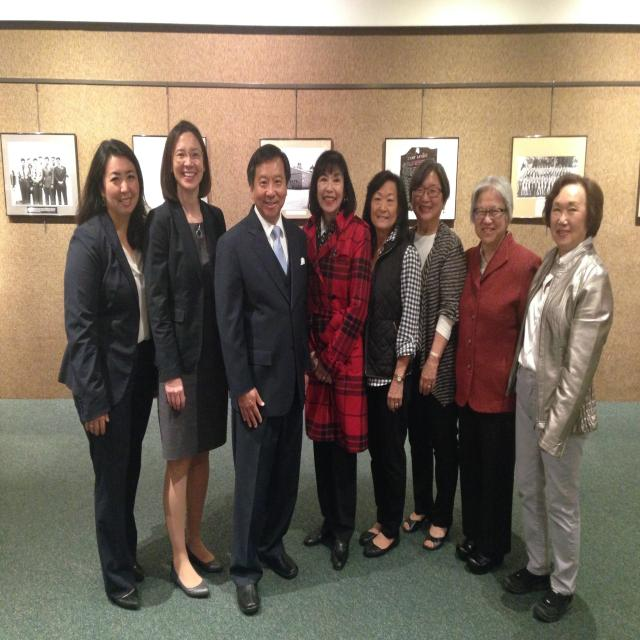body: (502, 168, 618, 626), (55, 135, 158, 612), (139, 117, 238, 600), (212, 141, 312, 619), (455, 174, 544, 576), (386, 158, 469, 553), (299, 147, 374, 572), (356, 166, 424, 560), (5, 138, 71, 210), (512, 148, 578, 207)
